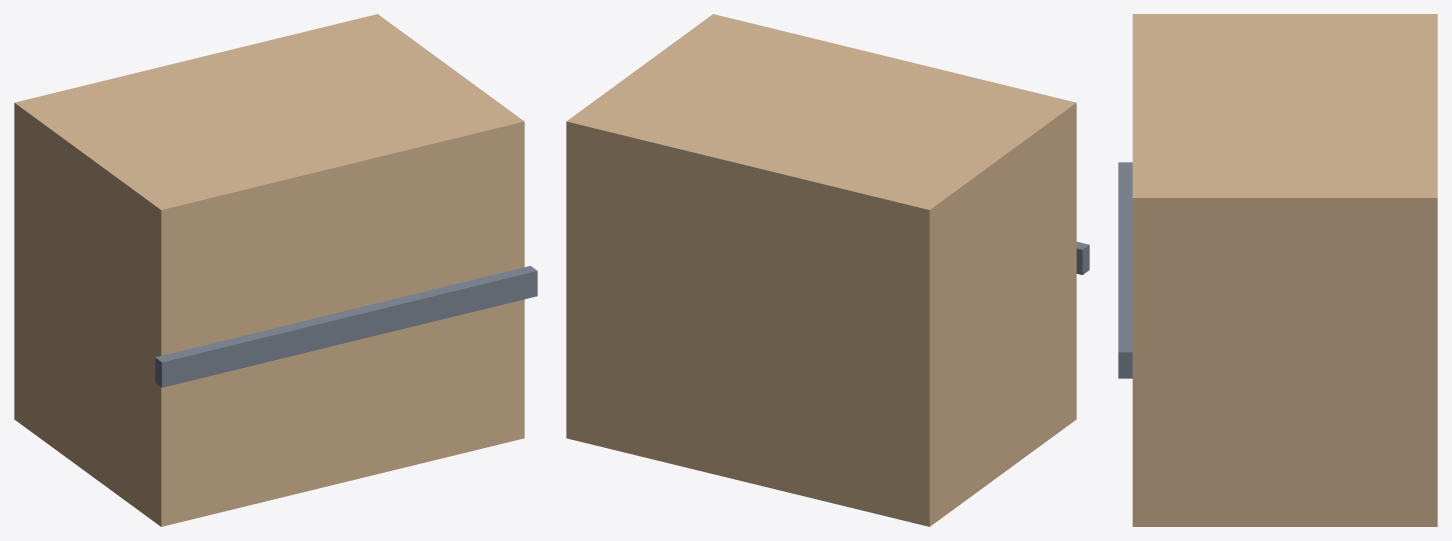
Rendered from cardboard_box.glb.
3 views of the same model, side by side, from view 1: azimuth 30°, elevation 25°; view 2: azimuth 150°, elevation 25°; view 3: azimuth 270°, elevation 25° (orthographic). The views are drawn at different scales.
Visible parts, largest first — view 1: box, tape; view 2: box; view 3: box, tape.
Boxes of the visible parts, x1=… form: box: x1=14, y1=14, x2=524, y2=526; tape: x1=155, y1=266, x2=537, y2=387; box: x1=566, y1=14, x2=1076, y2=526; box: x1=1132, y1=14, x2=1437, y2=526; tape: x1=1118, y1=162, x2=1132, y2=378.
Size of the model in its own units: 0.62 by 0.5 by 0.44.
